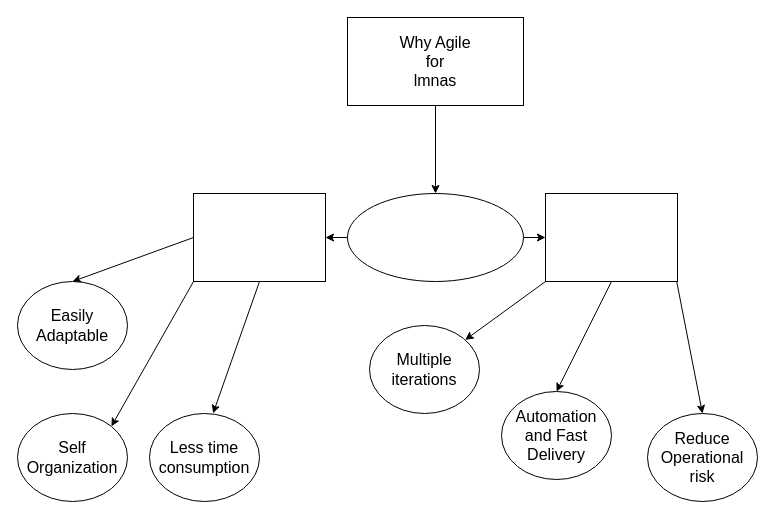
Some shapes in this 775 by 519 pixel diagram are drawn without their labels. The shapes that lost their labels are listed below. From the top down, each one's box as (x1, y1, x2, y2) in pixels, then its label:
(192, 192, 326, 282): Agile in ERP
(346, 192, 524, 282): Business Streams
(544, 192, 678, 282): Agile in E-commerce
